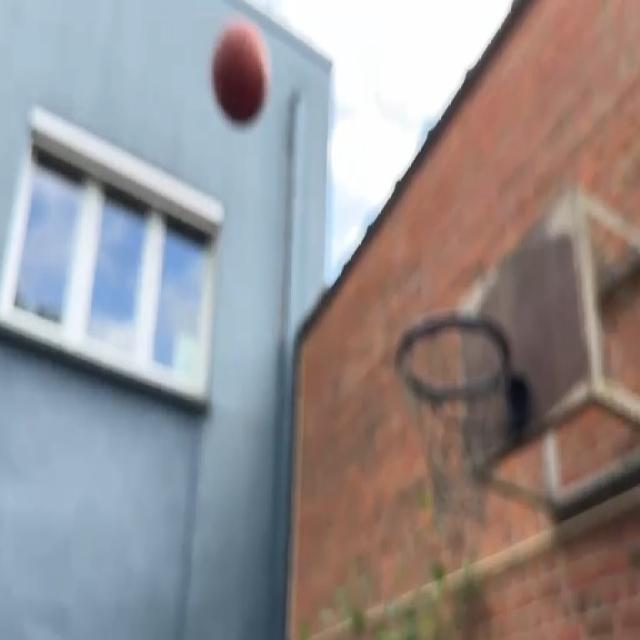Basketball: (211, 24, 265, 122)
